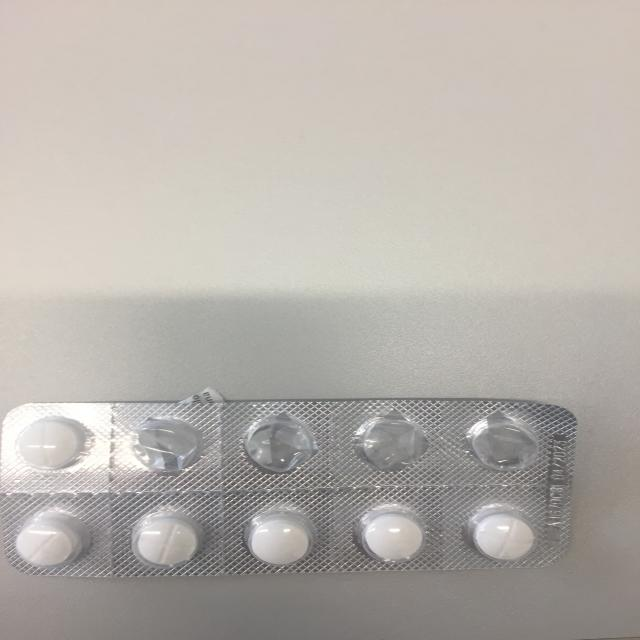Empty: (123, 412, 212, 477), (456, 409, 544, 473), (234, 415, 323, 478), (352, 410, 428, 476)
Pill: (237, 507, 326, 569), (464, 503, 548, 564), (354, 502, 430, 568), (126, 511, 205, 568), (14, 414, 89, 474), (12, 512, 90, 568)
